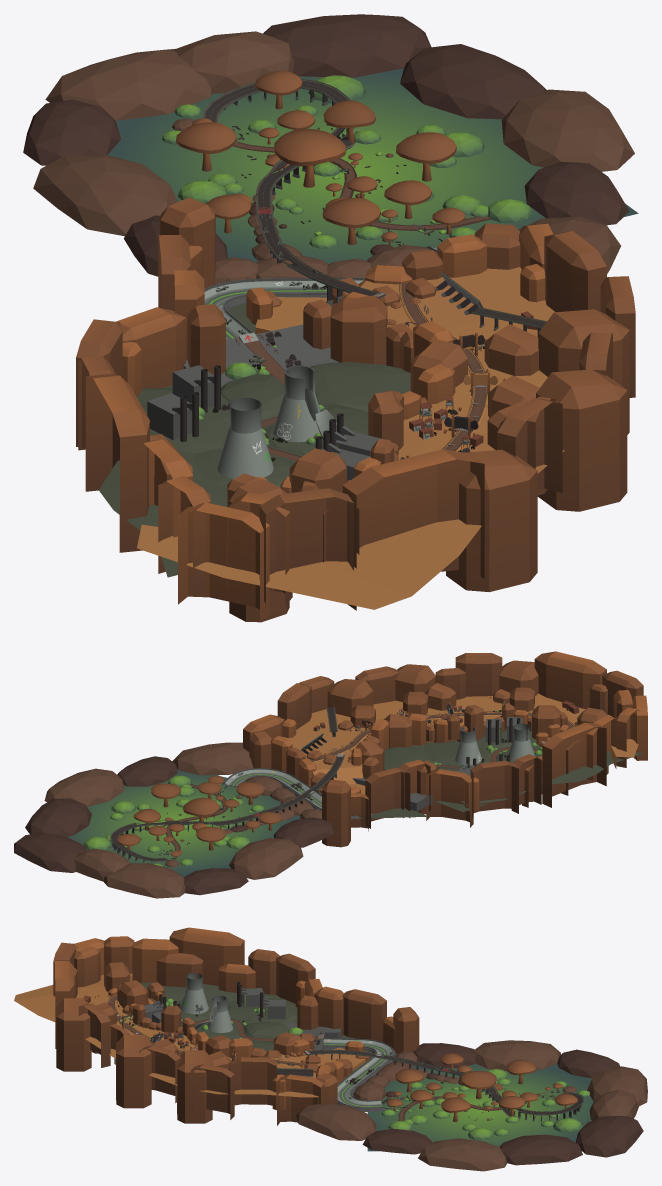
The model's file is Mutant.fbx.
3 views of the same model, one above another, from view 1: azimuth 30°, elevation 25°; view 2: azimuth 150°, elevation 25°; view 3: azimuth 270°, elevation 25° (orthographic). The views are drawn at different scales.
Parts seen in each view (by area): view 1: Plane, Cube.105, Cube.044, Cube.047, Cube.052, Icosphere.030, Cube.017, Icosphere.042, Icosphere.033, Icosphere.032, Icosphere.043, Cube.020 (+63 smaller); view 2: Plane, Cube.105, Cube.017, Cube.052, Highway, Icosphere.030, Icosphere.032, Icosphere.040, Icosphere.042, Icosphere.033, Icosphere.043, Cube.012 (+58 smaller); view 3: Plane, Cube.105, Cube.044, Cube.017, Cube.047, Icosphere.042, Icosphere.040, Icosphere.033, Cube.038, Road2_set, Icosphere.043, Icosphere.030 (+46 smaller).
Part boxes in pixels (left/top/right/bottom): Plane: left=107, top=68, right=638, bottom=264; Cube.105: left=137, top=267, right=613, bottom=609; Cube.044: left=536, top=369, right=627, bottom=511; Cube.047: left=446, top=449, right=537, bottom=592; Cube.052: left=342, top=449, right=484, bottom=610; Icosphere.030: left=33, top=154, right=178, bottom=236; Cube.017: left=85, top=373, right=149, bottom=552; Icosphere.042: left=501, top=89, right=634, bottom=171; Icosphere.033: left=263, top=14, right=431, bottom=77; Icosphere.032: left=45, top=48, right=212, bottom=120; Icosphere.043: left=400, top=44, right=546, bottom=119; Cube.020: left=178, top=502, right=269, bottom=621; Plane: left=67, top=769, right=300, bottom=876; Cube.105: left=282, top=693, right=638, bottom=794; Cube.017: left=542, top=722, right=606, bottom=807; Cube.052: left=534, top=651, right=606, bottom=708; Highway: left=110, top=705, right=344, bottom=862; Icosphere.030: left=229, top=838, right=303, bottom=879; Icosphere.032: left=103, top=863, right=185, bottom=898; Icosphere.040: left=172, top=742, right=253, bottom=775; Icosphere.042: left=44, top=768, right=124, bottom=806; Icosphere.033: left=14, top=833, right=87, bottom=872; Icosphere.043: left=25, top=798, right=91, bottom=836; Cube.012: left=426, top=769, right=473, bottom=827; Plane: left=367, top=1063, right=593, bottom=1151; Cube.105: left=14, top=973, right=365, bottom=1103; Cube.044: left=116, top=1035, right=151, bottom=1108; Cube.017: left=169, top=927, right=244, bottom=985; Cube.047: left=56, top=998, right=91, bottom=1071; Icosphere.042: left=418, top=1138, right=507, bottom=1171; Icosphere.040: left=296, top=1103, right=376, bottom=1140; Icosphere.033: left=575, top=1116, right=643, bottom=1157; Cube.038: left=177, top=1050, right=212, bottom=1123; Road2_set: left=323, top=1038, right=395, bottom=1111; Icosphere.043: left=499, top=1134, right=582, bottom=1165; Icosphere.030: left=473, top=1040, right=560, bottom=1070.
Size of what is drawn, in the model's own units: 11826 by 2264 by 15950.
